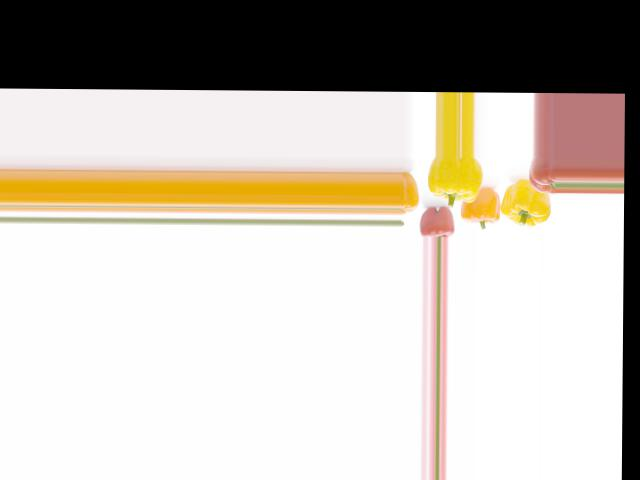bell_pepper: (400, 171, 421, 216)
